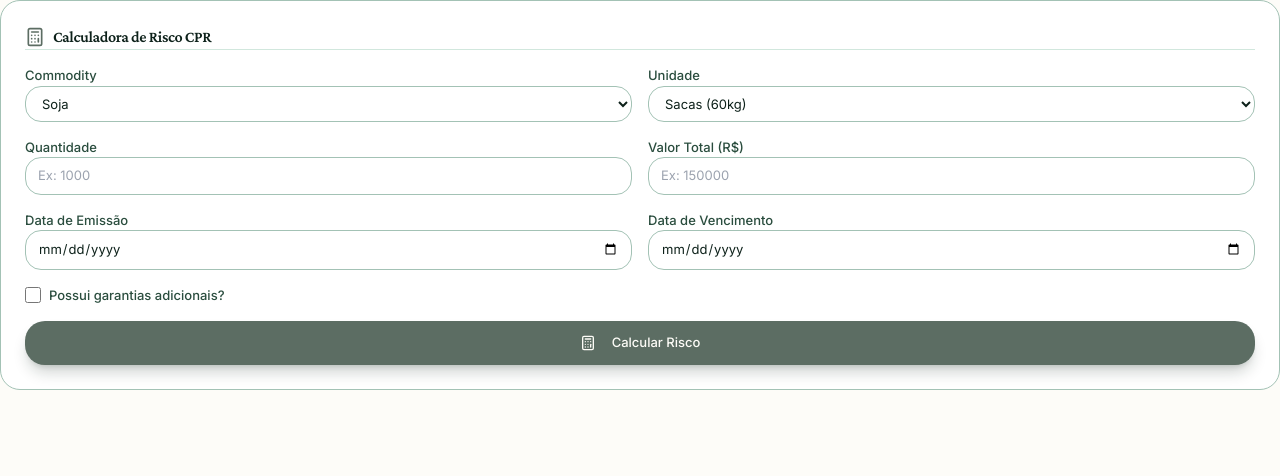
Scenario: RiskCalculatorContainer › form rendering › should hide guarantee value field when checkbox is unchecked
Click the checkbox labelled "Possui garantias adicionais?" at [33, 295], box [25,287,41,303]
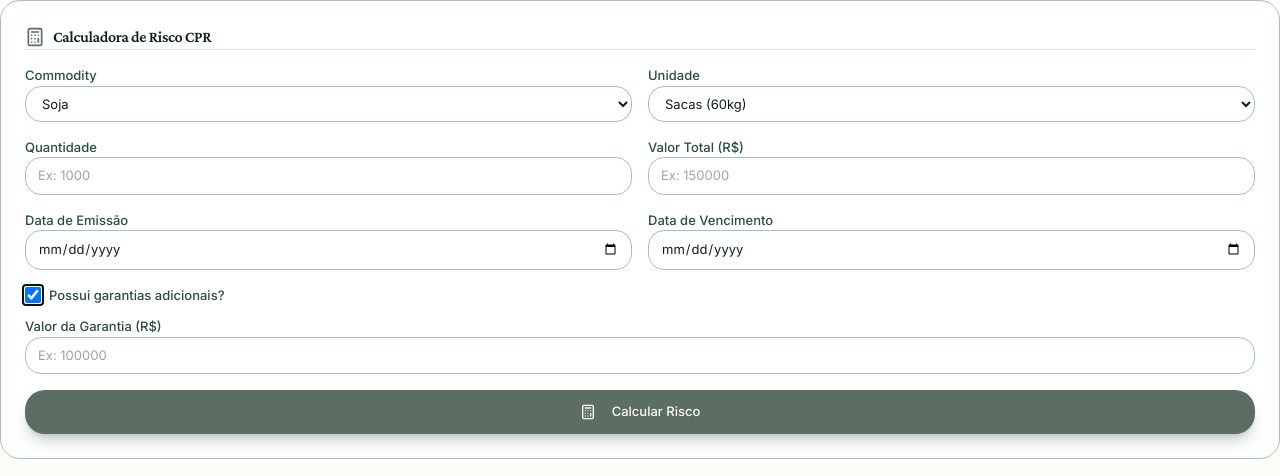
Click the checkbox labelled "Possui garantias adicionais?" at [33, 295], box [25,287,41,303]
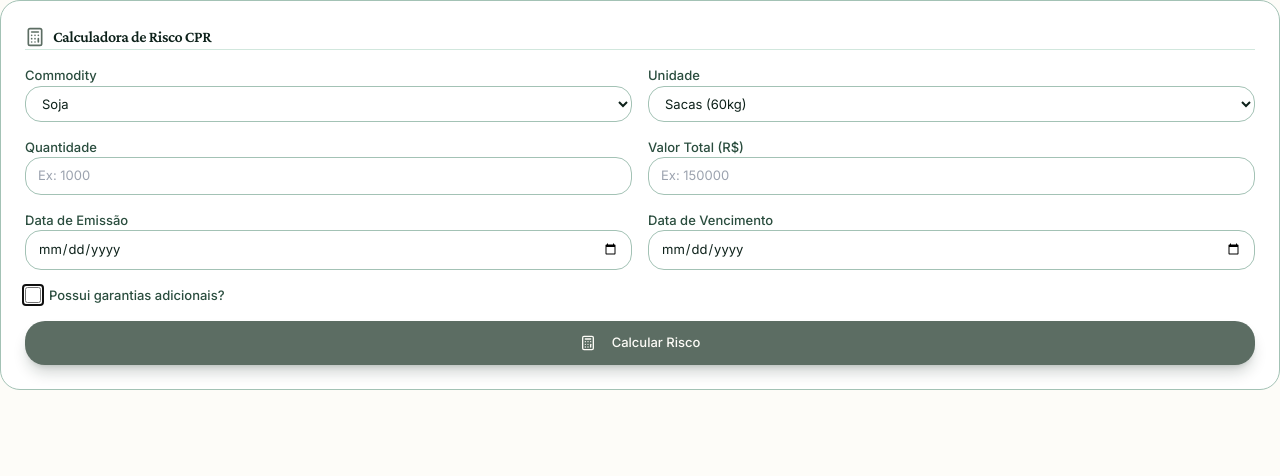
Now the label labelled "Valor da Garantia" is gone
